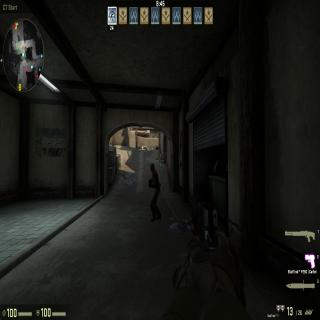T-Body: (148, 162, 160, 221)
T-Head: (149, 163, 155, 173)
